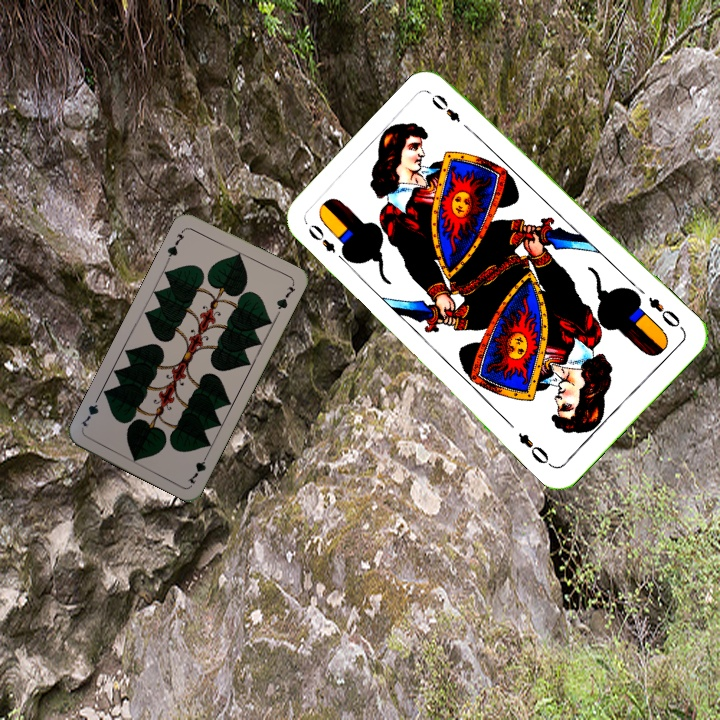EO: (304, 220, 351, 266), (644, 293, 687, 333)
G7: (183, 449, 211, 487), (163, 226, 187, 263)
